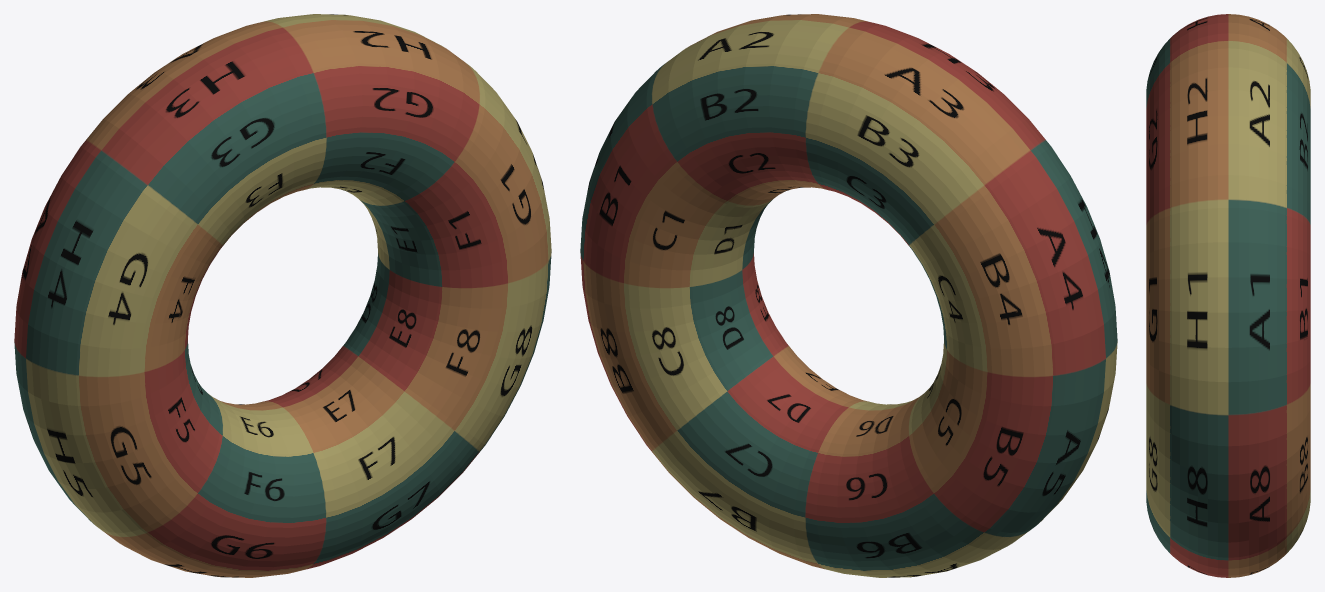
Rendered from texture_torus_R0_r8.glb.
3 views of the same model, side by side, from view 1: azimuth 30°, elevation 25°; view 2: azimuth 150°, elevation 25°; view 3: azimuth 270°, elevation 25° (orthographic). The views are drawn at different scales.
Parts seen in each view (by area): view 1: world; view 2: world; view 3: world.
Boxes of the visible parts, <box> form: world: <box>14,14,551,577</box>; world: <box>580,14,1117,577</box>; world: <box>1146,14,1310,577</box>.
Bounding box in the file's own units: 14.13 × 14.11 × 4.13.
1 material, 1 textured.
